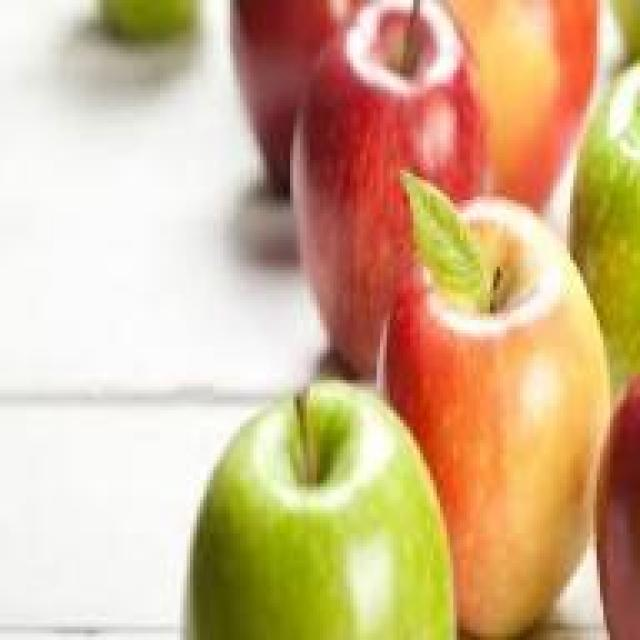apple: (390, 193, 613, 617), (183, 393, 457, 637)
